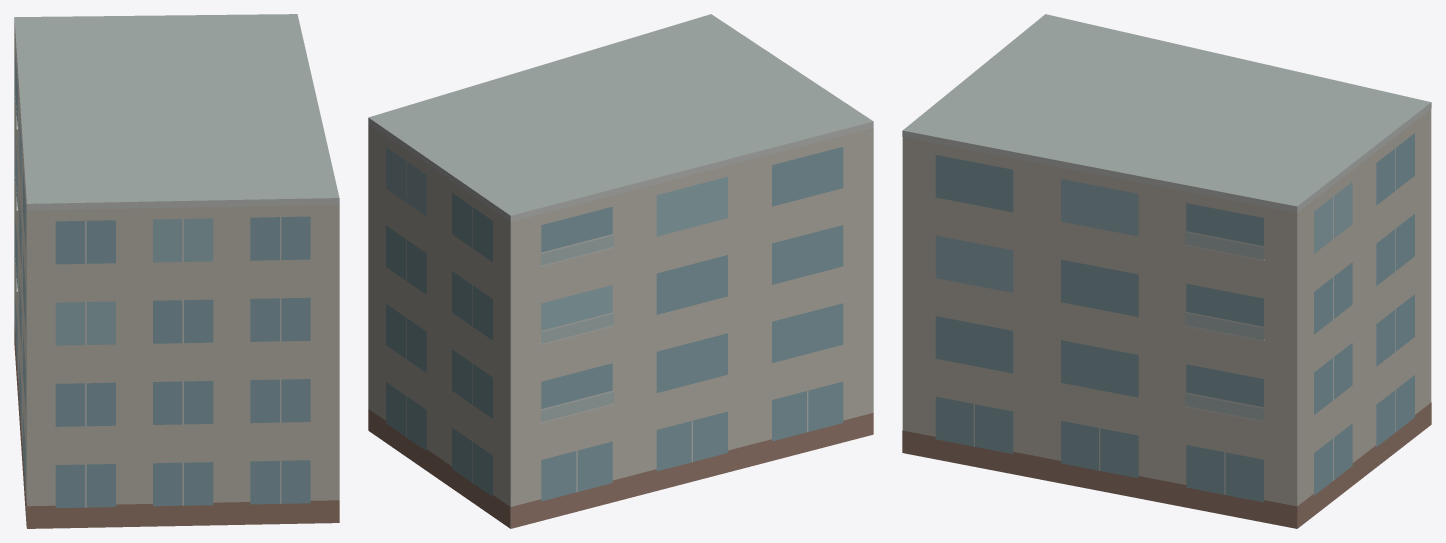
The model's file is survey-upis-32726312.glb.
The picture shows the model from 3 angles, left to right: view 1: azimuth 30°, elevation 25°; view 2: azimuth 150°, elevation 25°; view 3: azimuth 270°, elevation 25°; orthographic projection. The views are drawn at different scales.
Parts seen in each view (by area): view 1: survey-upis-32726312.tmp; view 2: survey-upis-32726312.tmp; view 3: survey-upis-32726312.tmp.
Boxes of the visible parts, x1,y1,x2,y2 form: survey-upis-32726312.tmp: (14,14,339,528); survey-upis-32726312.tmp: (368,14,873,528); survey-upis-32726312.tmp: (902,14,1431,528).
Size of the model in its own units: 15.63 by 12.2 by 18.15.
